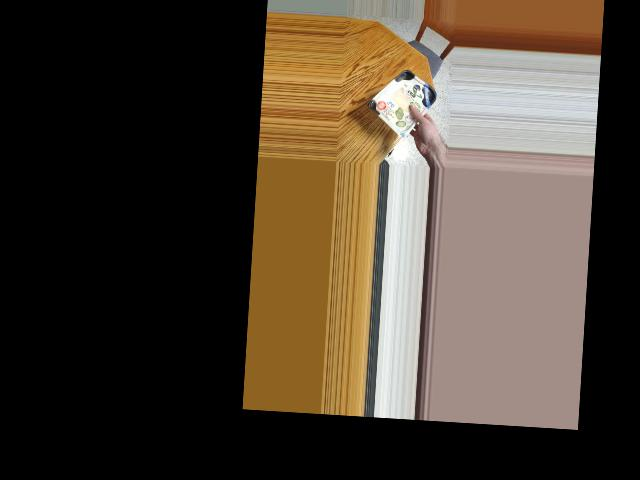cheese: (374, 67, 433, 128)
